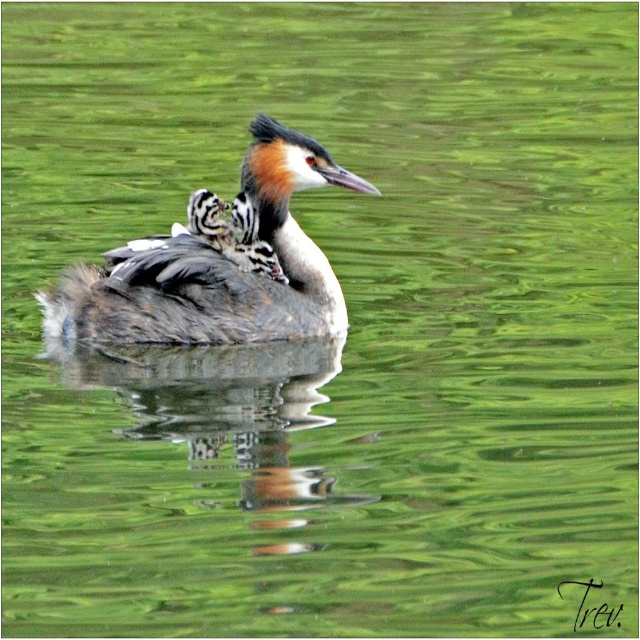Duck: (33, 113, 382, 377)
